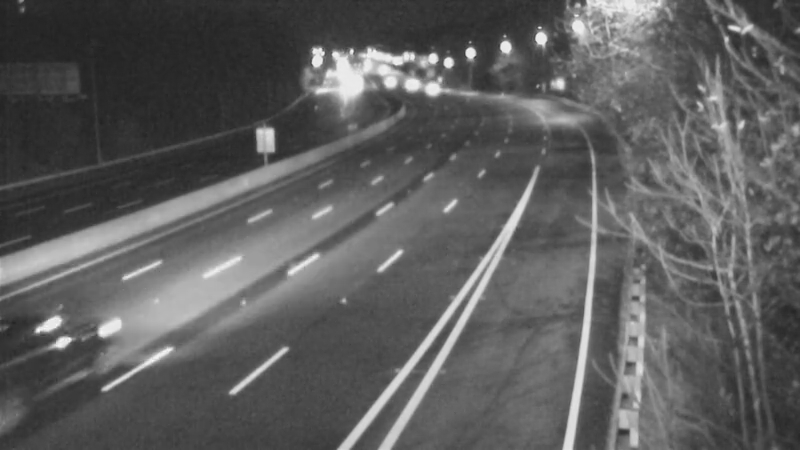vehicle: (1, 296, 101, 406), (362, 57, 412, 107), (386, 60, 436, 110), (406, 65, 456, 115)
